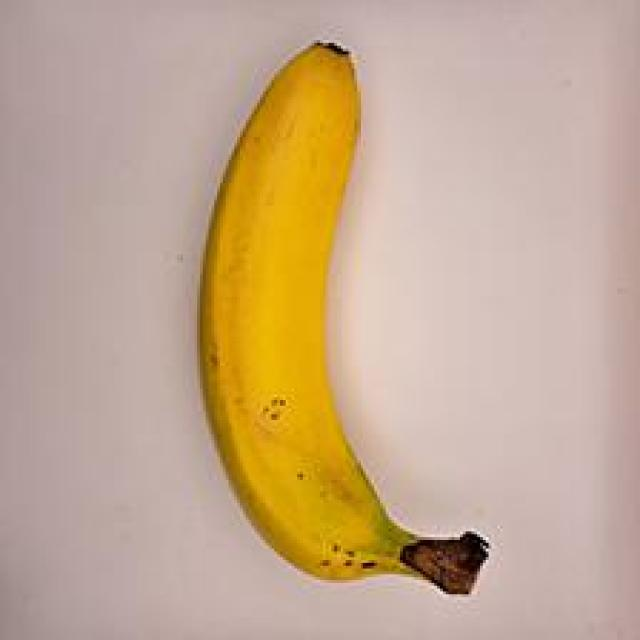Ripe: (179, 22, 517, 606)
